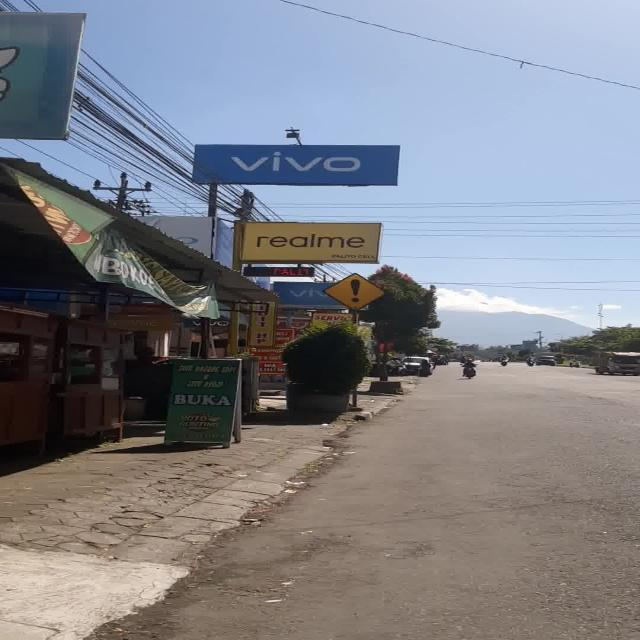Hati-Hati: (321, 272, 386, 311)
